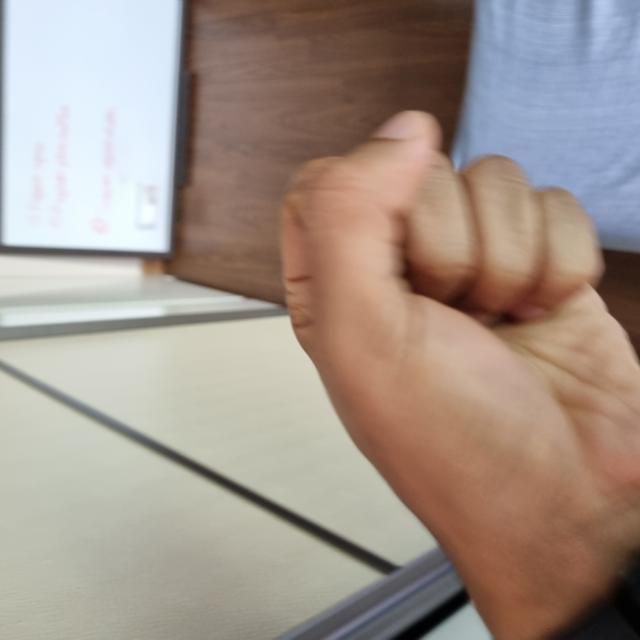Rock: (4, 283, 520, 639)
